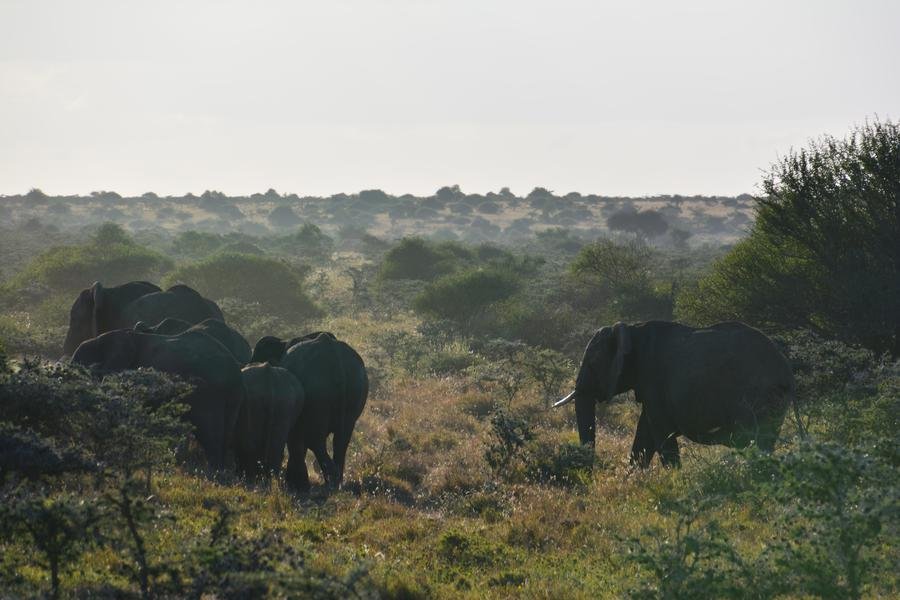elephant: (575, 315, 801, 471), (265, 329, 370, 472)
